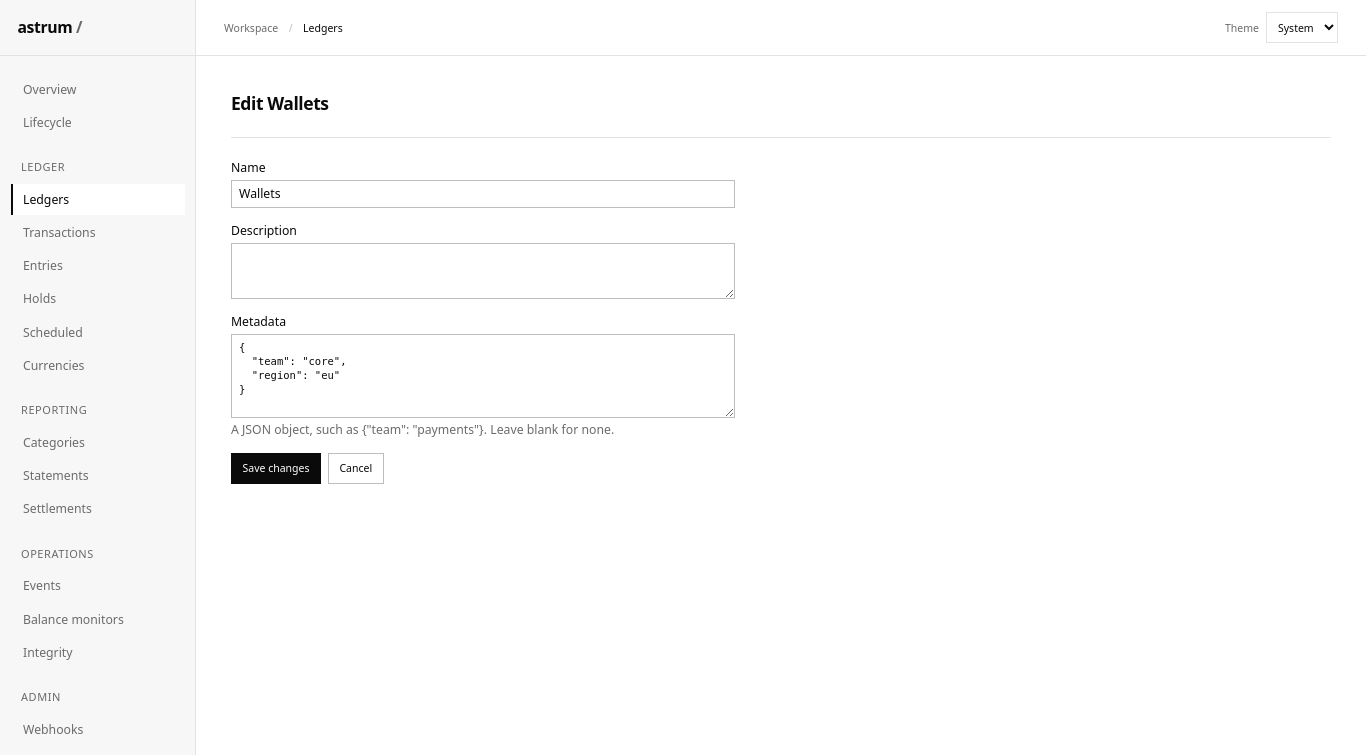
Test case: forms › shows an edit conflict on the form
Replace the text in the field labelled "Name" with "Renamed" at (483, 194), box 231,180 -> 735,208
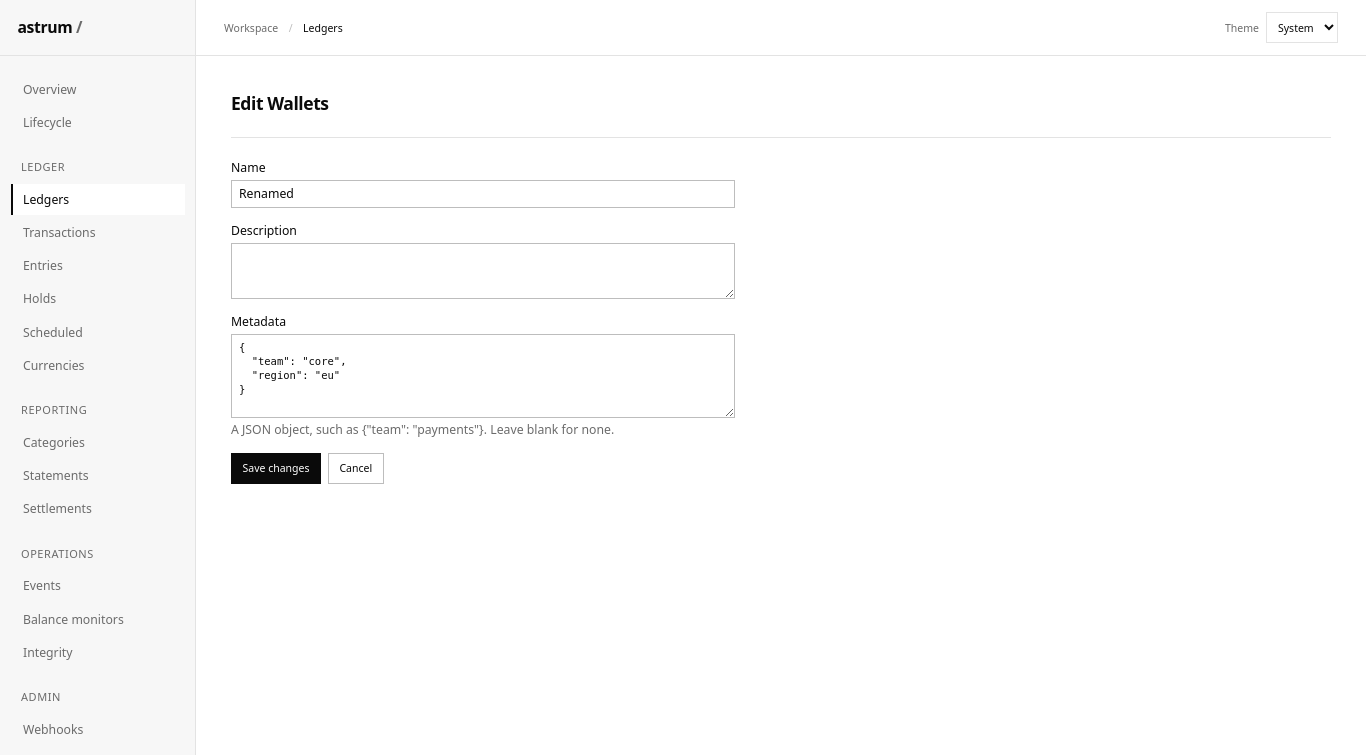
Click the button "Save changes" at (276, 468), box 231,452 -> 321,484
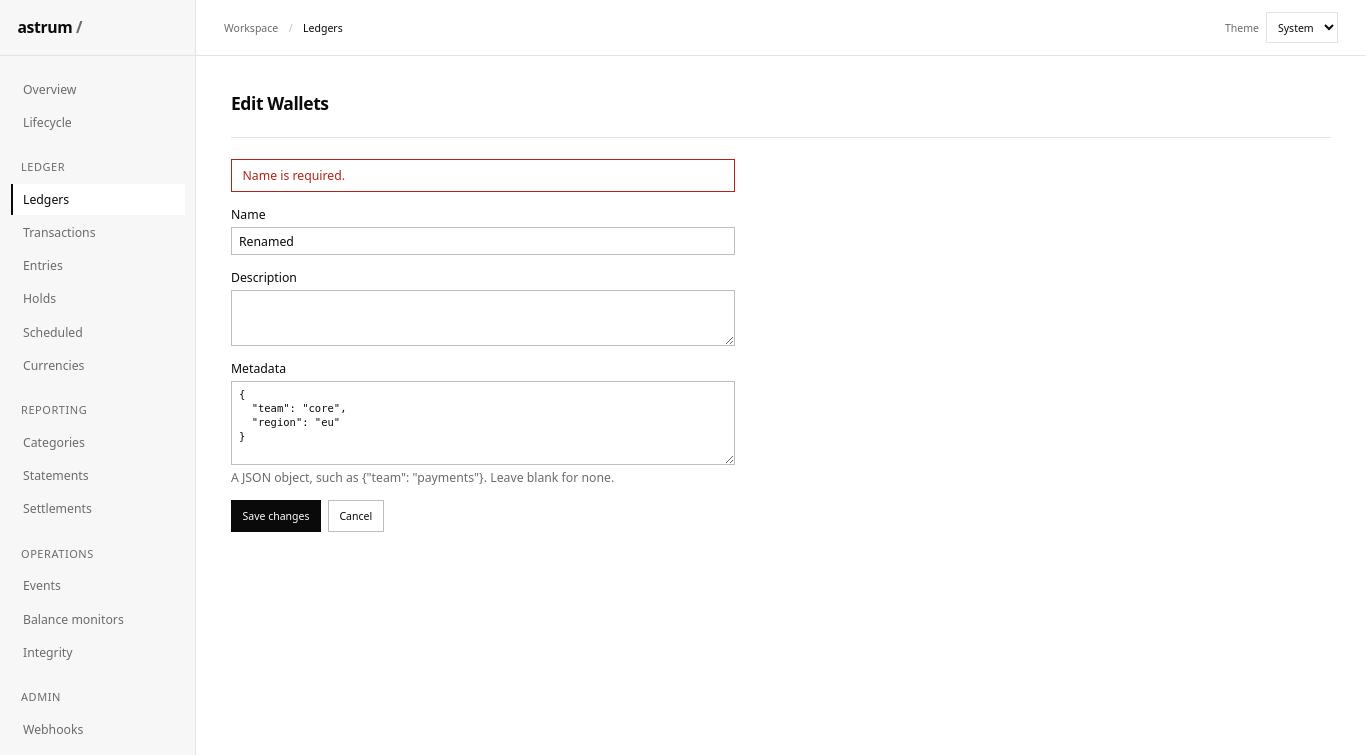
Expected: the message reads "Name is required.", 242,166 -> 345,184
